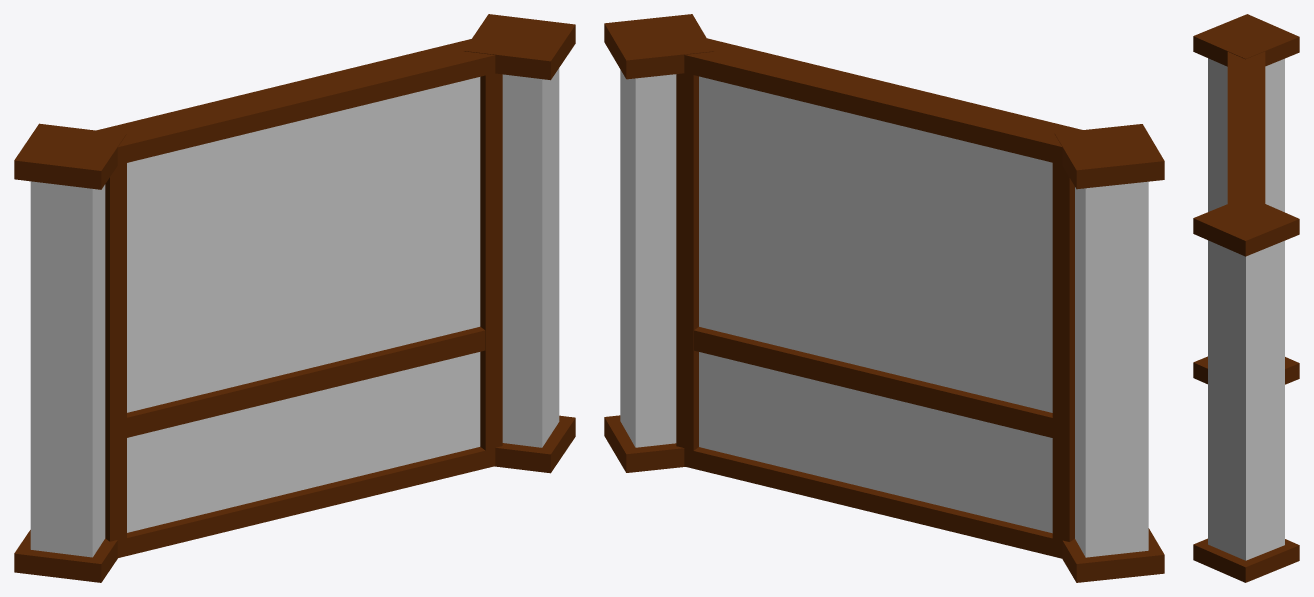
Rendered from wall.fbx.
3 renders of one model, left to right at view 1: azimuth 30°, elevation 25°; view 2: azimuth 150°, elevation 25°; view 3: azimuth 270°, elevation 25°, orthographic. The views are drawn at different scales.
Visible parts, largest first — view 1: Wall, Pillar.001, Pillar; view 2: Wall, Pillar.001, Pillar; view 3: Pillar, Pillar.001, Wall.
Boxes of the visible parts, left/top/right/bottom form: Wall: left=96, top=39, right=502, bottom=557; Pillar.001: left=14, top=123, right=126, bottom=582; Pillar: left=464, top=14, right=575, bottom=473; Wall: left=676, top=38, right=1082, bottom=558; Pillar.001: left=1054, top=124, right=1164, bottom=582; Pillar: left=604, top=14, right=714, bottom=472; Pillar: left=1193, top=196, right=1299, bottom=582; Pillar.001: left=1193, top=14, right=1299, bottom=384; Wall: left=1227, top=51, right=1265, bottom=203.
Bounding box in the file's own units: 1427 × 1002 × 283.
